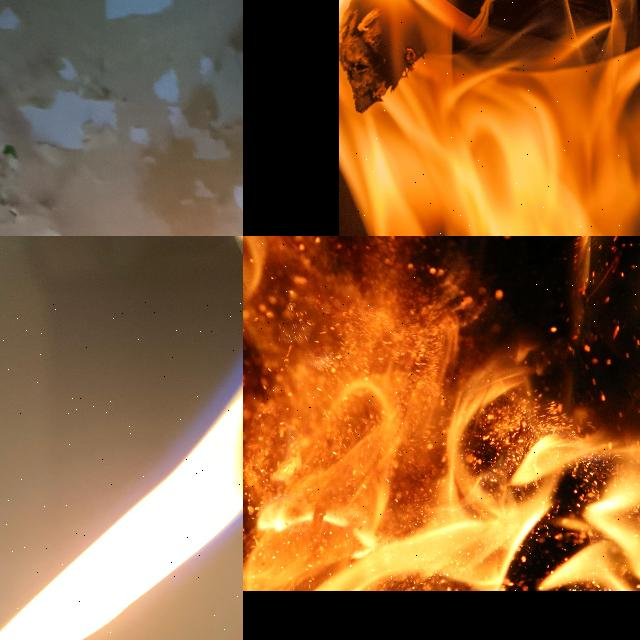fire: (243, 236, 640, 590), (338, 0, 640, 236), (0, 378, 243, 640)
